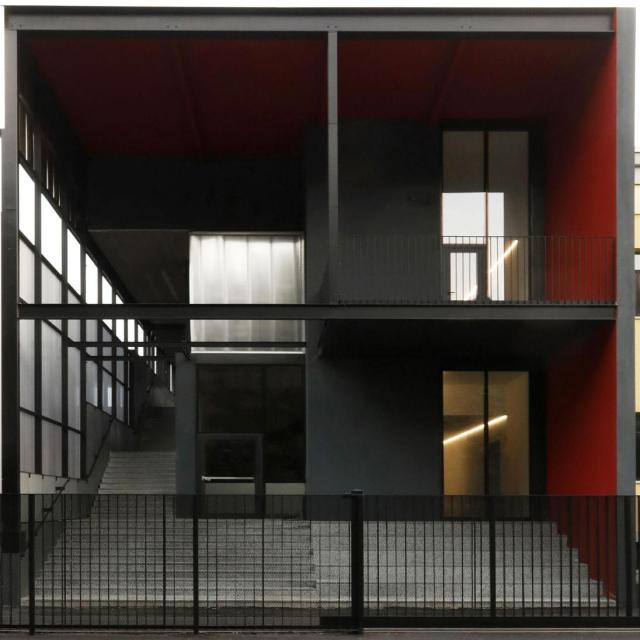Railing: (336, 233, 621, 305)
door: (445, 364, 528, 510)
wall: (0, 0, 639, 619)
windows: (442, 126, 533, 228)
